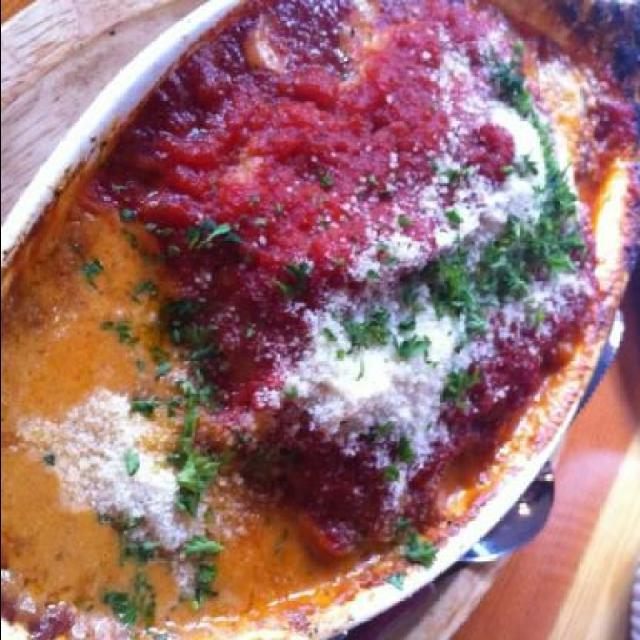Lasagna: (37, 17, 608, 580)
